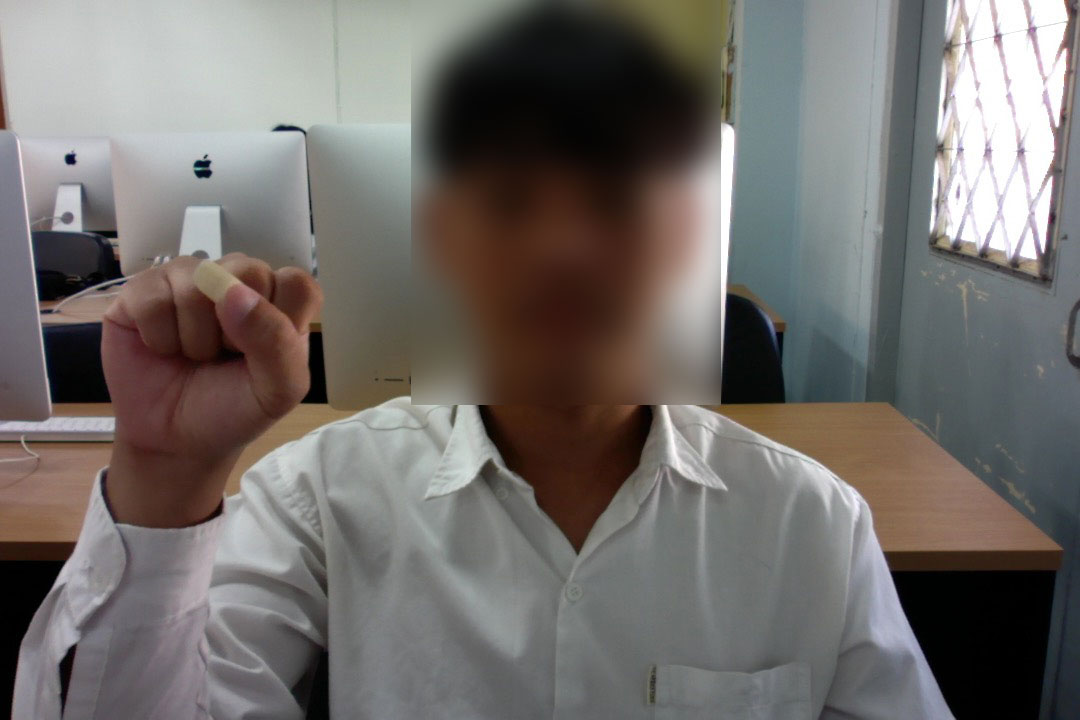sor: (95, 243, 328, 530)
